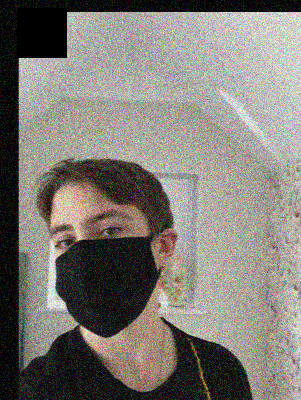with_mask: (48, 196, 160, 339)
